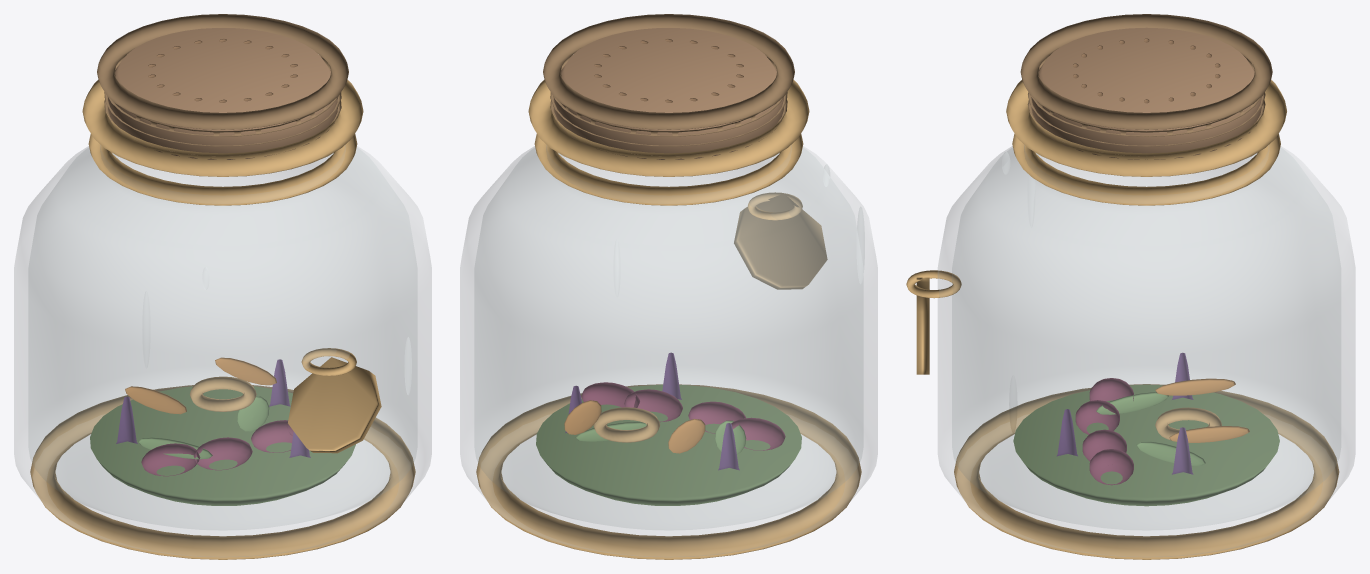
The model's file is jar_06_river.glb.
The picture shows the model from 3 angles, left to right: view 1: azimuth 30°, elevation 25°; view 2: azimuth 150°, elevation 25°; view 3: azimuth 270°, elevation 25°; orthographic projection.
Visible parts, largest first — view 1: Outer glass wall, Inner glass wall, Natural cork stopper, Soft moss and earth bed, Foot brass ring, Stopper top binding, Stopper retaining ring, Unlabeled shell charm, Neck collar, River-worn pebble (×3), Pressed botanical leaf (×4), Small river shell (+3 smaller); view 2: Outer glass wall, Inner glass wall, Natural cork stopper, Soft moss and earth bed, Foot brass ring, Stopper top binding, Stopper retaining ring, Unlabeled shell charm, Neck collar, River-worn pebble (×4), Pressed botanical leaf (×4), Small river shell (+3 smaller); view 3: Outer glass wall, Inner glass wall, Natural cork stopper, Soft moss and earth bed, Foot brass ring, Stopper top binding, Stopper retaining ring, Neck collar, River-worn pebble (×4), Pressed botanical leaf (×4), Hand-cut quartz point (×2), Unlabeled shell charm (+3 smaller).
Boxes of the visible parts, box(x1,y1,x2,y2) form: Outer glass wall: box(14, 145, 431, 557); Inner glass wall: box(29, 148, 416, 529); Natural cork stopper: box(108, 28, 337, 159); Soft moss and earth bed: box(90, 386, 355, 505); Foot brass ring: box(30, 385, 415, 559); Stopper top binding: box(97, 14, 348, 129); Stopper retaining ring: box(82, 80, 363, 176); Unlabeled shell charm: box(288, 357, 381, 453); Neck collar: box(88, 134, 357, 205); River-worn pebble (×3): box(141, 420, 293, 476); Pressed botanical leaf (×4): box(125, 357, 276, 459); Small river shell: box(189, 376, 256, 411); Outer glass wall: box(460, 145, 877, 557); Inner glass wall: box(475, 148, 862, 529); Natural cork stopper: box(554, 28, 783, 159); Soft moss and earth bed: box(536, 384, 801, 505); Foot brass ring: box(476, 384, 861, 559); Stopper top binding: box(543, 14, 794, 129); Stopper retaining ring: box(528, 80, 809, 176); Unlabeled shell charm: box(734, 194, 827, 289); Neck collar: box(534, 134, 803, 205); River-worn pebble (×4): box(581, 382, 785, 450); Pressed botanical leaf (×4): box(564, 400, 746, 454); Small river shell: box(593, 407, 660, 442); Outer glass wall: box(938, 145, 1355, 557); Inner glass wall: box(952, 148, 1340, 529); Natural cork stopper: box(1031, 27, 1261, 159); Soft moss and earth bed: box(1013, 384, 1279, 506); Foot brass ring: box(954, 384, 1339, 559); Stopper top binding: box(1020, 14, 1272, 129); Stopper retaining ring: box(1006, 80, 1286, 176); Neck collar: box(1012, 134, 1280, 205); River-worn pebble (×4): box(1075, 378, 1133, 485); Pressed botanical leaf (×4): box(1096, 378, 1249, 466); Hand-cut quartz point (×2): box(1056, 409, 1193, 474); Unlabeled shell charm: box(916, 277, 929, 374).
Bounding box in the file's own units: 1.19 × 1.34 × 1.28.
